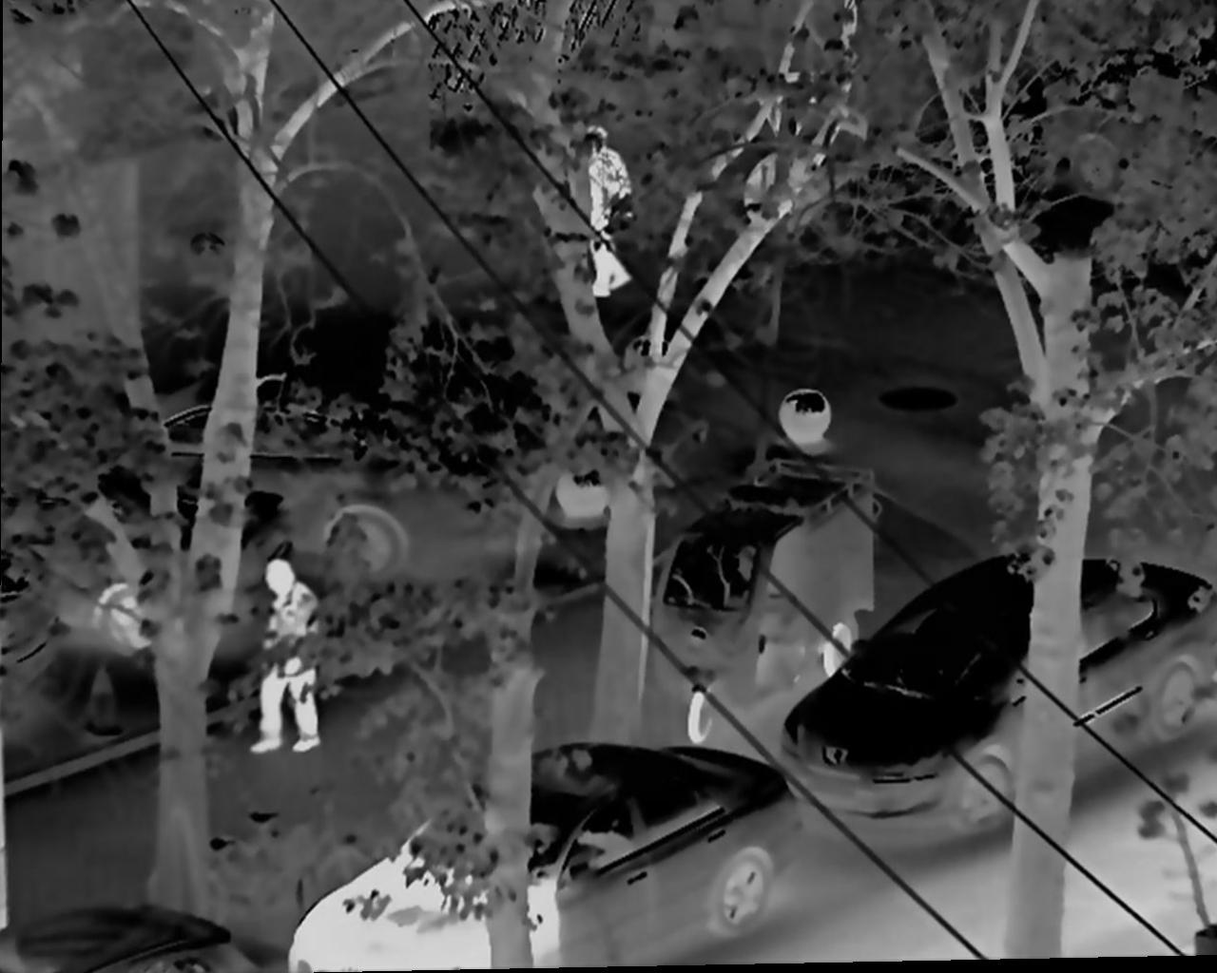person: (252, 557, 333, 754), (558, 117, 638, 298)
